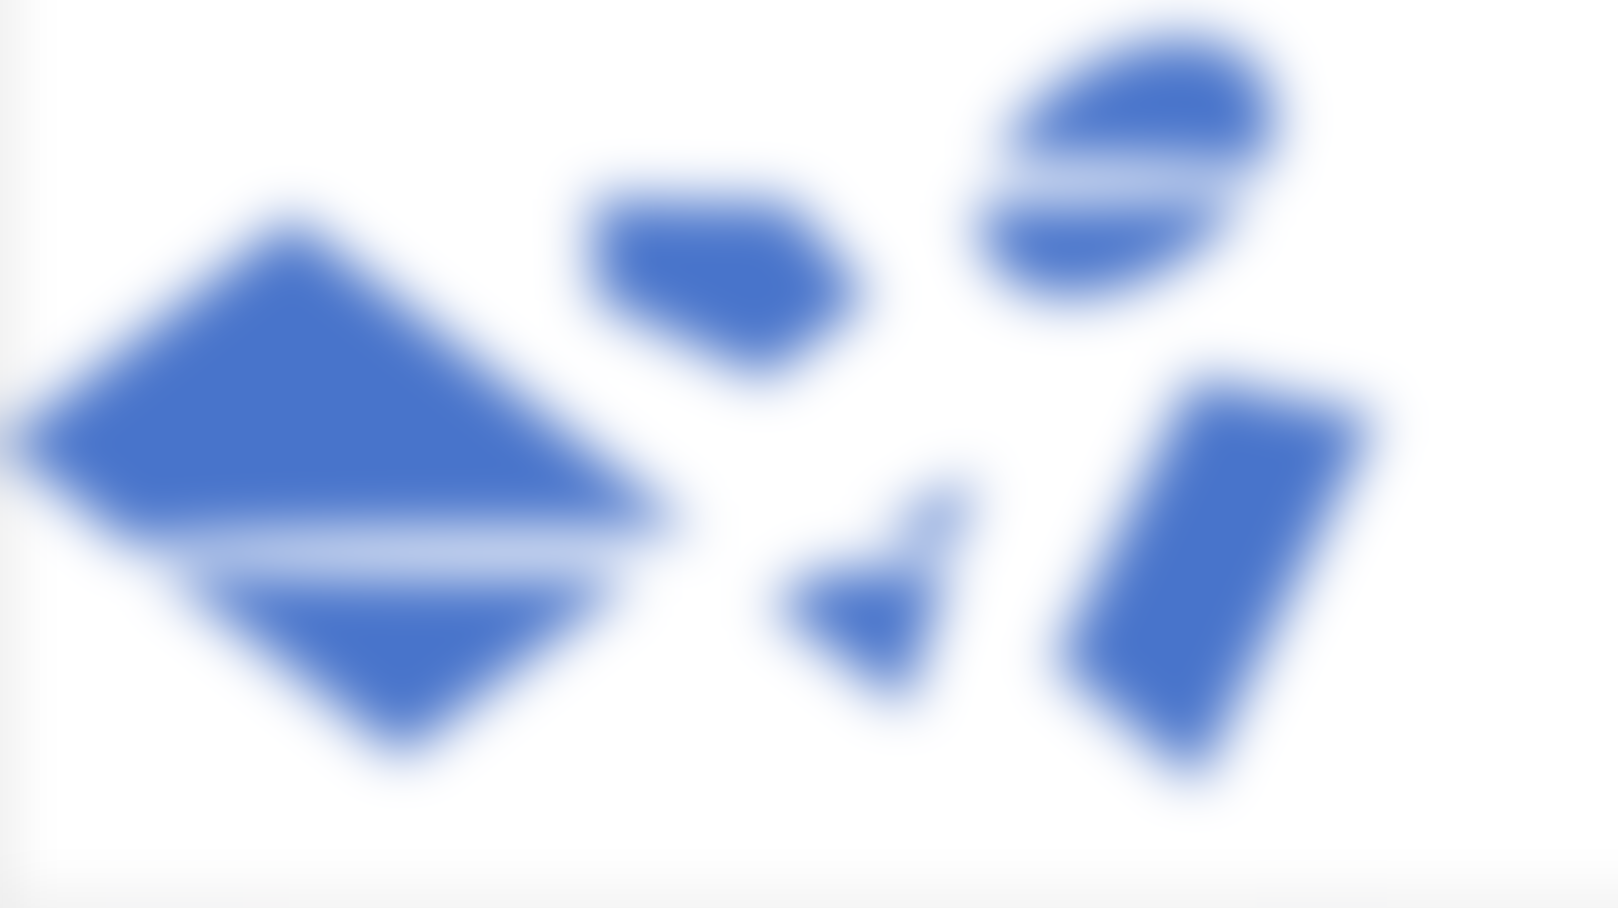circle: (963, 16, 1289, 295)
parallelogram: (10, 214, 685, 760)
pentagon: (588, 166, 893, 383)
trapezium: (1030, 355, 1396, 785)
triangle: (767, 467, 1002, 695)
